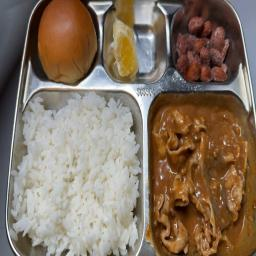100_beef: (149, 102, 256, 254)
100_bread: (34, 2, 98, 86)
100_nuts: (172, 12, 228, 83)
100_rice: (22, 95, 137, 255)
25_orange: (108, 8, 160, 84)
